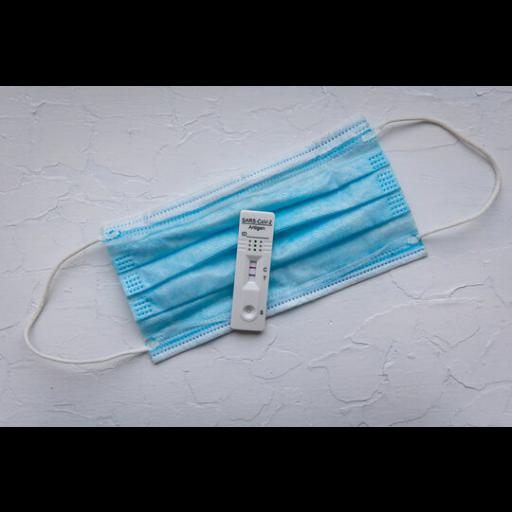Pos: (231, 210, 275, 334)
